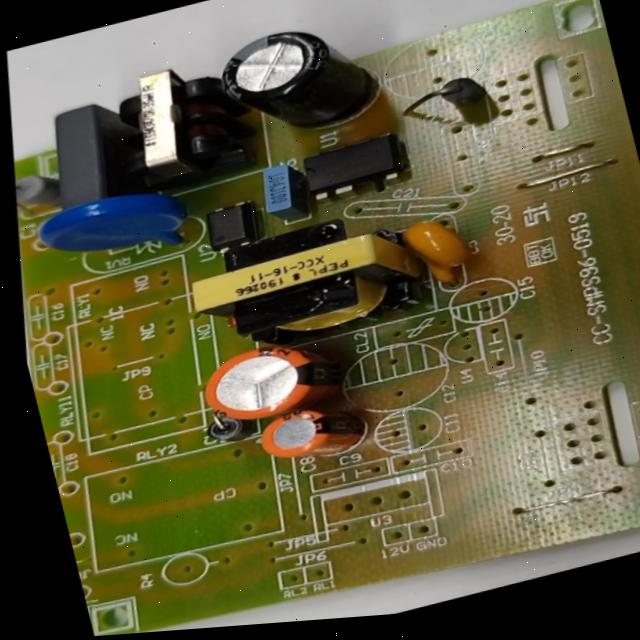Cap1: (191, 329, 337, 436)
Cap2: (252, 395, 375, 473)
Cap3: (202, 5, 401, 155)
MOSFET: (293, 126, 411, 208)
Mov: (22, 176, 198, 281)
Resistor: (11, 164, 67, 217)
Transformer: (170, 194, 437, 368), (99, 54, 242, 186)
